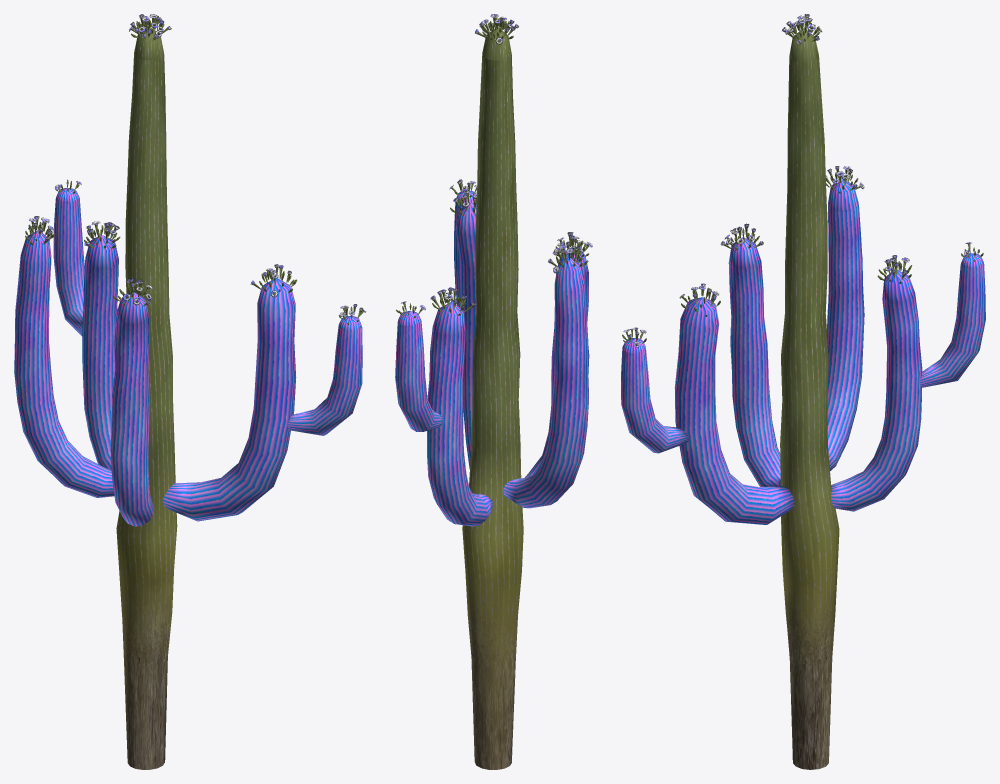
Rendered from cacti3v1.obj.
3 views of the same model, side by side, from view 1: azimuth 30°, elevation 25°; view 2: azimuth 150°, elevation 25°; view 3: azimuth 270°, elevation 25° (orthographic).
Visible parts, largest first — view 1: cacti3v1; view 2: cacti3v1; view 3: cacti3v1.
Part boxes in pixels (box(x1,y1,x2,y2)): cacti3v1: box(14, 14, 366, 769); cacti3v1: box(395, 14, 592, 769); cacti3v1: box(621, 14, 985, 769).
Bounding box in the file's own units: 2.44 × 7.18 × 3.19.
Materials: 6 (6 with a texture image).
